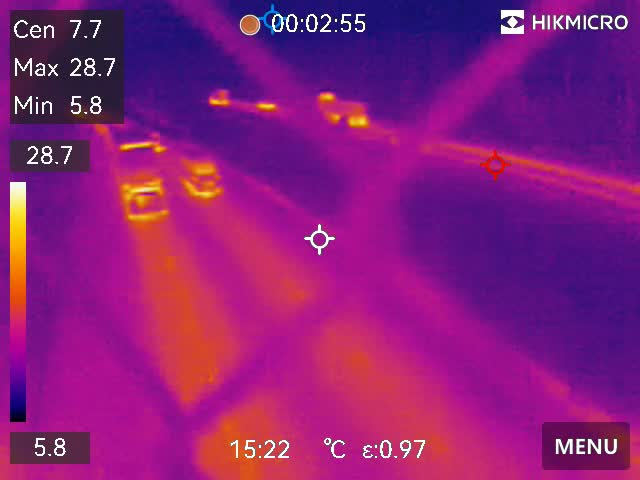heavyTruck: (104, 123, 174, 221), (315, 88, 367, 127)
